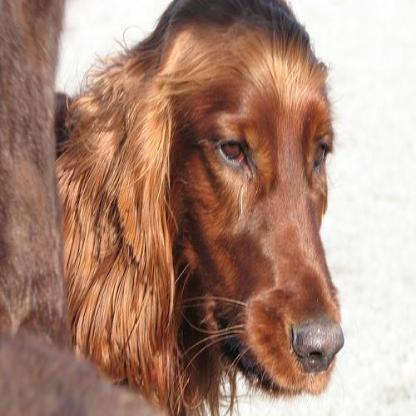Irish_setter: (50, 0, 344, 414)
